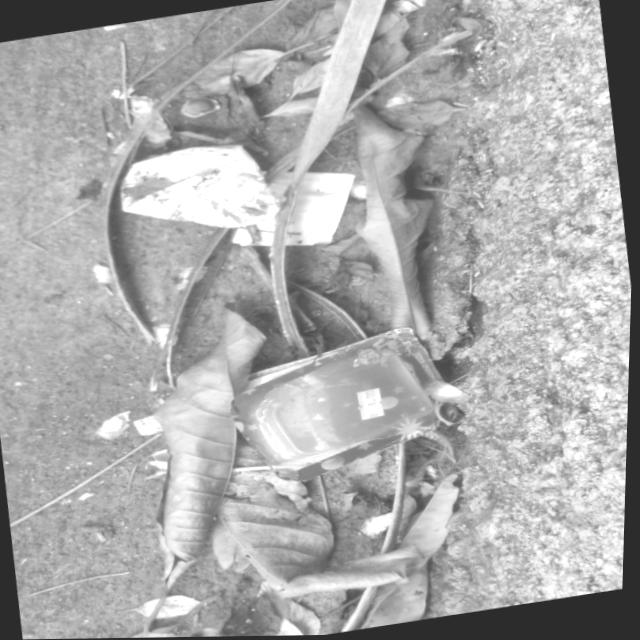Paper: (214, 311, 485, 493), (107, 131, 290, 250), (216, 154, 376, 263), (86, 403, 143, 448), (131, 411, 172, 439)
